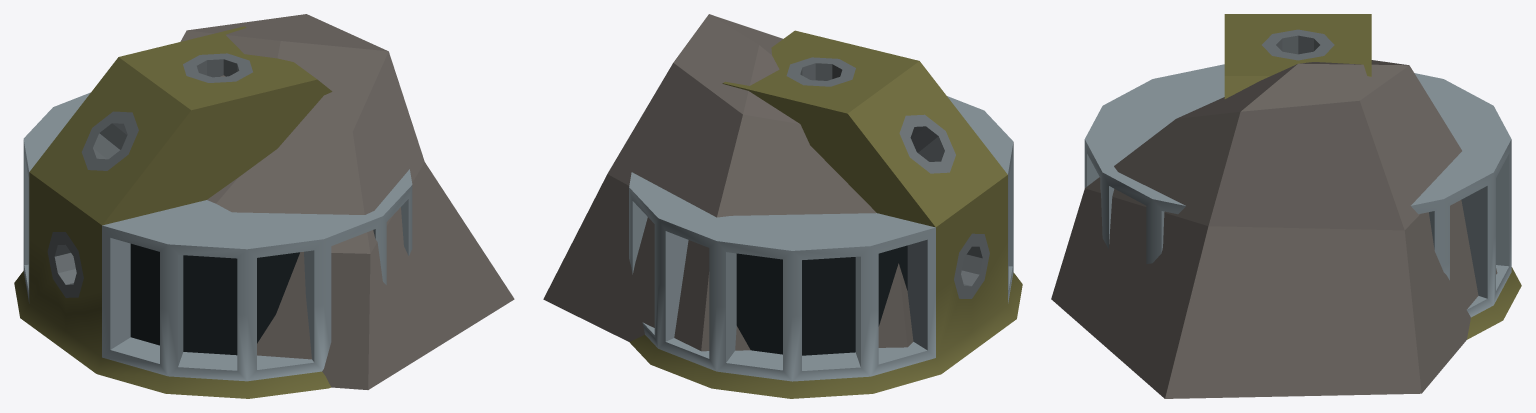
Rendered from Turret_1.fbx.
The picture shows the model from 3 angles, left to right: view 1: azimuth 30°, elevation 25°; view 2: azimuth 150°, elevation 25°; view 3: azimuth 270°, elevation 25°; orthographic projection.
Visible parts, largest first — view 1: Steam_Vent, Rock, Turret_2, Turret_4, Turret_1; view 2: Steam_Vent, Rock, Turret_2, Turret_4, Turret_1; view 3: Rock, Steam_Vent, Turret_1.
Boxes of the visible parts, x1=… form: Steam_Vent: x1=14, y1=26, x2=412, y2=398; Rock: x1=180, y1=14, x2=514, y2=389; Turret_2: x1=81, y1=111, x2=138, y2=170; Turret_4: x1=47, y1=232, x2=83, y2=297; Turret_1: x1=183, y1=53, x2=252, y2=82; Steam_Vent: x1=629, y1=30, x2=1022, y2=398; Rock: x1=543, y1=14, x2=913, y2=351; Turret_2: x1=899, y1=114, x2=955, y2=173; Turret_4: x1=954, y1=233, x2=989, y2=298; Turret_1: x1=786, y1=57, x2=855, y2=86; Rock: x1=1051, y1=60, x2=1497, y2=398; Steam_Vent: x1=1084, y1=14, x2=1521, y2=339; Turret_1: x1=1262, y1=29, x2=1334, y2=60.
Size of the model in its own units: 1.36 by 0.8377 by 1.41.
